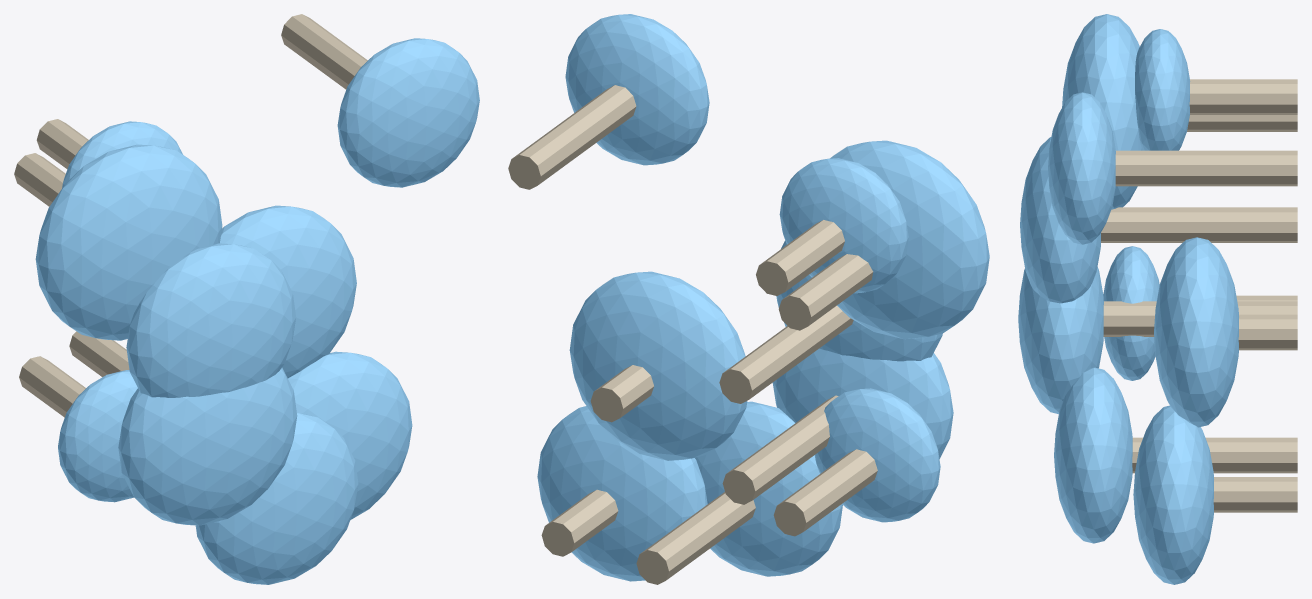
File: Akariz_Plant_Glow_Mushrooms.glb
3 renders of one model, left to right at view 1: azimuth 30°, elevation 25°; view 2: azimuth 150°, elevation 25°; view 3: azimuth 270°, elevation 25°, orthographic. The views are drawn at different scales.
Parts seen in each view (by area): view 1: Akariz_Plant_Glow_Mushrooms_cap3, Akariz_Plant_Glow_Mushrooms_cap2, Akariz_Plant_Glow_Mushrooms_cap8, Akariz_Plant_Glow_Mushrooms_cap7, Akariz_Plant_Glow_Mushrooms_cap4, Akariz_Plant_Glow_Mushrooms_cap5, Akariz_Plant_Glow_Mushrooms_cap1, Akariz_Plant_Glow_Mushrooms_cap6, Akariz_Plant_Glow_Mushrooms_stem7, Akariz_Plant_Glow_Mushrooms_cap0, Akariz_Plant_Glow_Mushrooms_stem6, Akariz_Plant_Glow_Mushrooms_stem8 (+2 smaller); view 2: Akariz_Plant_Glow_Mushrooms_cap5, Akariz_Plant_Glow_Mushrooms_cap3, Akariz_Plant_Glow_Mushrooms_cap1, Akariz_Plant_Glow_Mushrooms_cap7, Akariz_Plant_Glow_Mushrooms_cap6, Akariz_Plant_Glow_Mushrooms_cap4, Akariz_Plant_Glow_Mushrooms_cap0, Akariz_Plant_Glow_Mushrooms_cap8, Akariz_Plant_Glow_Mushrooms_stem7, Akariz_Plant_Glow_Mushrooms_stem2, Akariz_Plant_Glow_Mushrooms_stem8, Akariz_Plant_Glow_Mushrooms_stem4 (+6 smaller); view 3: Akariz_Plant_Glow_Mushrooms_cap5, Akariz_Plant_Glow_Mushrooms_cap1, Akariz_Plant_Glow_Mushrooms_cap4, Akariz_Plant_Glow_Mushrooms_cap7, Akariz_Plant_Glow_Mushrooms_cap8, Akariz_Plant_Glow_Mushrooms_cap3, Akariz_Plant_Glow_Mushrooms_stem2, Akariz_Plant_Glow_Mushrooms_cap2, Akariz_Plant_Glow_Mushrooms_stem7, Akariz_Plant_Glow_Mushrooms_cap0, Akariz_Plant_Glow_Mushrooms_cap6, Akariz_Plant_Glow_Mushrooms_stem0 (+6 smaller).
Part boxes in pixels (x1,y1,x2,y2): Akariz_Plant_Glow_Mushrooms_cap3: (35,144,222,340); Akariz_Plant_Glow_Mushrooms_cap2: (126,243,295,397); Akariz_Plant_Glow_Mushrooms_cap8: (118,367,297,525); Akariz_Plant_Glow_Mushrooms_cap7: (337,38,479,187); Akariz_Plant_Glow_Mushrooms_cap4: (195,413,358,584); Akariz_Plant_Glow_Mushrooms_cap5: (220,205,356,378); Akariz_Plant_Glow_Mushrooms_cap1: (288,351,412,519); Akariz_Plant_Glow_Mushrooms_cap6: (58,370,137,502); Akariz_Plant_Glow_Mushrooms_stem7: (281,14,367,89); Akariz_Plant_Glow_Mushrooms_cap0: (62,121,182,188); Akariz_Plant_Glow_Mushrooms_stem6: (19,356,85,417); Akariz_Plant_Glow_Mushrooms_stem8: (69,331,129,376); Akariz_Plant_Glow_Mushrooms_cap5: (569,271,747,460); Akariz_Plant_Glow_Mushrooms_cap3: (830,140,989,339); Akariz_Plant_Glow_Mushrooms_cap1: (537,406,707,581); Akariz_Plant_Glow_Mushrooms_cap7: (565,14,709,165); Akariz_Plant_Glow_Mushrooms_cap6: (814,388,940,522); Akariz_Plant_Glow_Mushrooms_cap4: (695,401,842,576); Akariz_Plant_Glow_Mushrooms_cap0: (779,158,908,293); Akariz_Plant_Glow_Mushrooms_cap8: (772,348,953,458); Akariz_Plant_Glow_Mushrooms_stem7: (508,85,636,189); Akariz_Plant_Glow_Mushrooms_stem2: (719,305,853,403); Akariz_Plant_Glow_Mushrooms_stem8: (722,395,838,504); Akariz_Plant_Glow_Mushrooms_stem4: (636,492,755,584); Akariz_Plant_Glow_Mushrooms_cap5: (1154,237,1238,427); Akariz_Plant_Glow_Mushrooms_cap1: (1133,405,1213,584); Akariz_Plant_Glow_Mushrooms_cap4: (1054,367,1132,543); Akariz_Plant_Glow_Mushrooms_cap7: (1048,92,1115,244); Akariz_Plant_Glow_Mushrooms_cap8: (1018,267,1103,413); Akariz_Plant_Glow_Mushrooms_cap3: (1062,14,1142,209); Akariz_Plant_Glow_Mushrooms_stem2: (1101,207,1297,242); Akariz_Plant_Glow_Mushrooms_cap2: (1020,137,1100,303); Akariz_Plant_Glow_Mushrooms_stem7: (1115,150,1297,186); Akariz_Plant_Glow_Mushrooms_cap0: (1135,29,1190,150); Akariz_Plant_Glow_Mushrooms_cap6: (1103,246,1159,380); Akariz_Plant_Glow_Mushrooms_stem0: (1189,79,1297,114).
Size of the model in its own units: 1.45 by 1.68 by 0.856.
